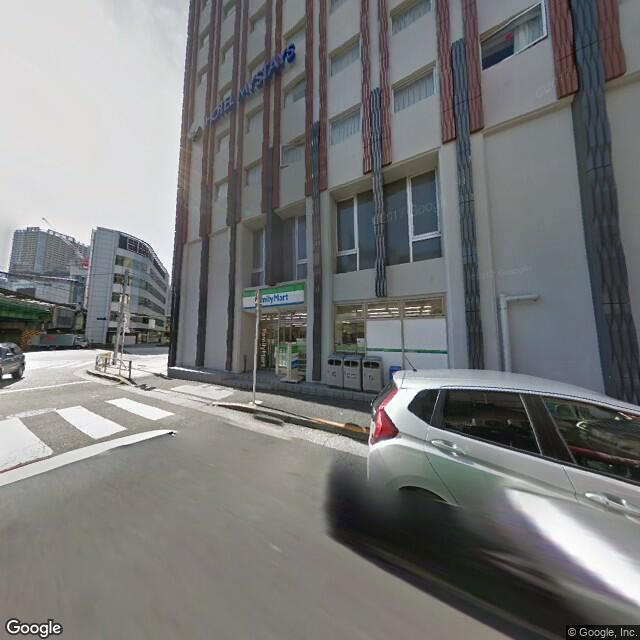family_mart: (240, 282, 308, 314)
